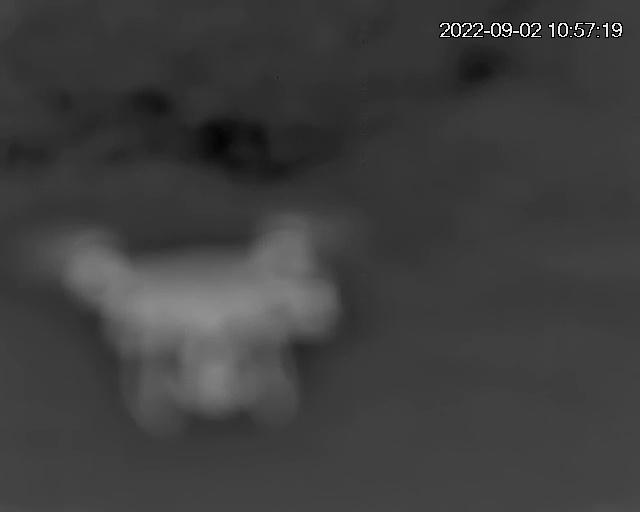DJI-Phantom: (28, 227, 349, 425)
